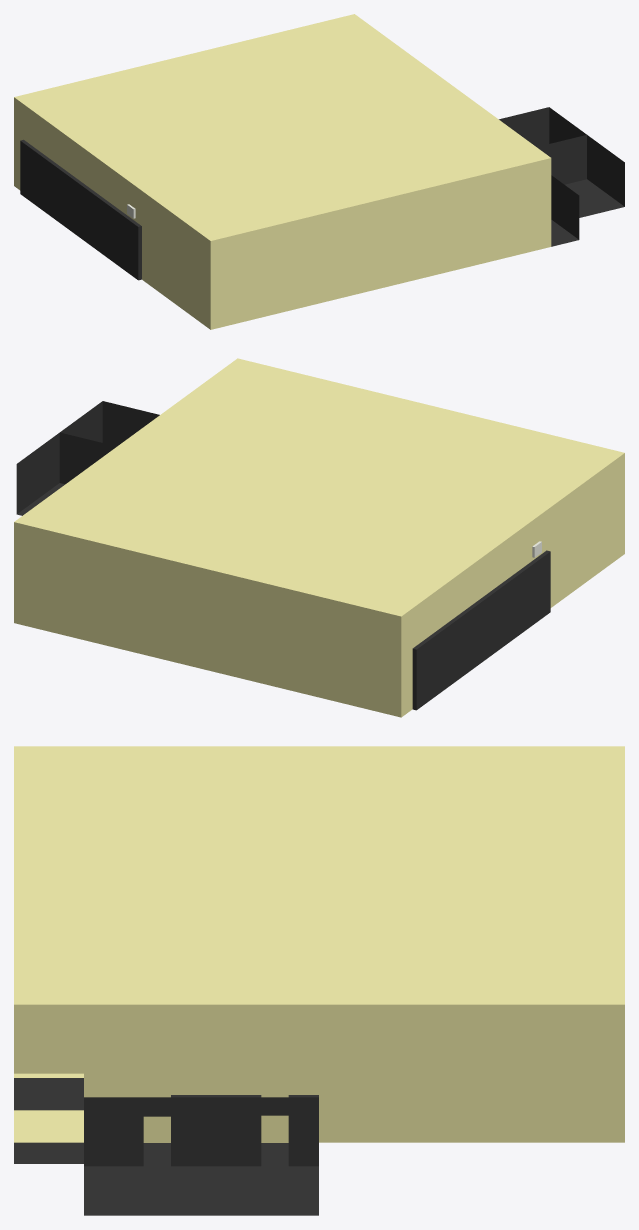
Rendered from Grocery.fbx.
3 renders of one model, top to bottom at view 1: azimuth 30°, elevation 25°; view 2: azimuth 150°, elevation 25°; view 3: azimuth 270°, elevation 25°, orthographic. The views are drawn at different scales.
Parts seen in each view (by area): view 1: Building.001; view 2: Building.001; view 3: Building.001.
Boxes of the visible parts, left/top/right/bottom form: Building.001: left=14, top=14, right=624, bottom=329; Building.001: left=14, top=358, right=624, bottom=717; Building.001: left=14, top=746, right=624, bottom=1215.
Bounding box in the file's own units: 2585 × 499 × 2000.
